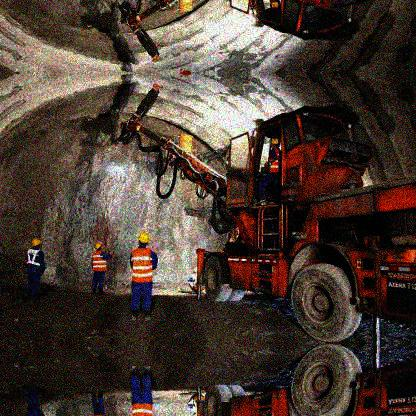helmet: (137, 232, 150, 248), (31, 238, 42, 250), (270, 138, 280, 148), (95, 243, 103, 253)
